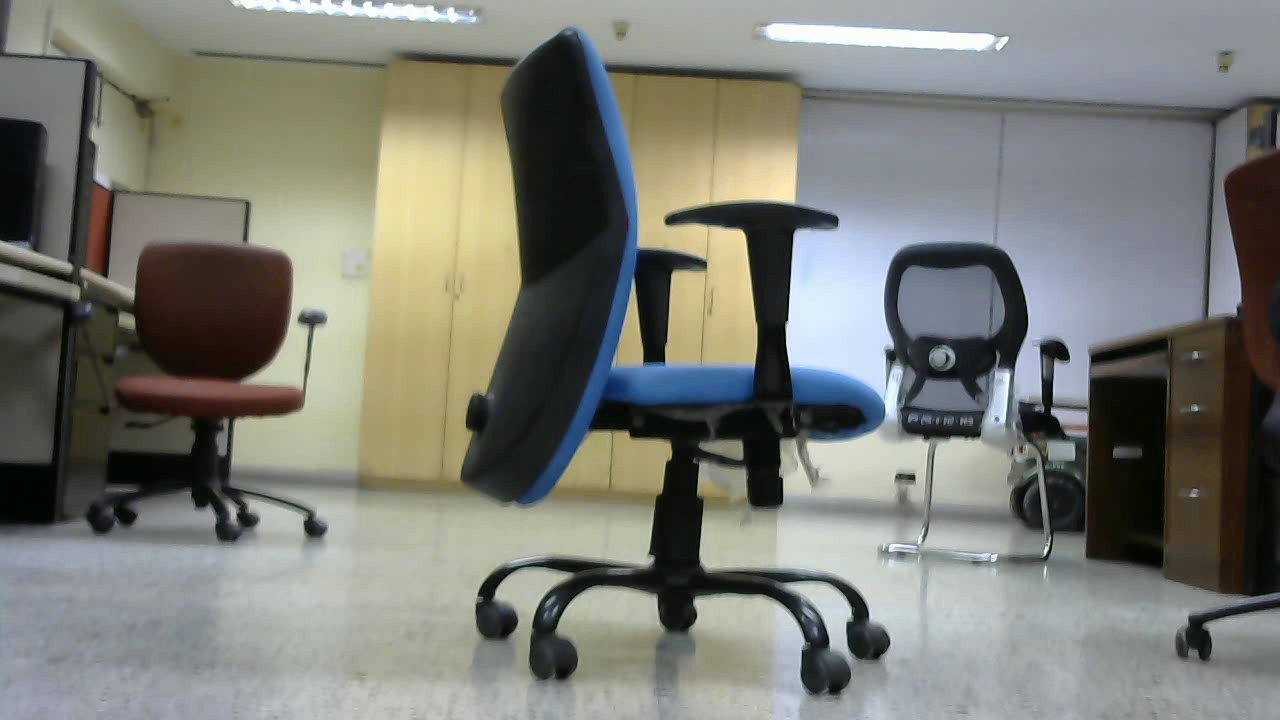chair: (474, 23, 895, 690), (106, 241, 329, 537), (868, 238, 1061, 562)
